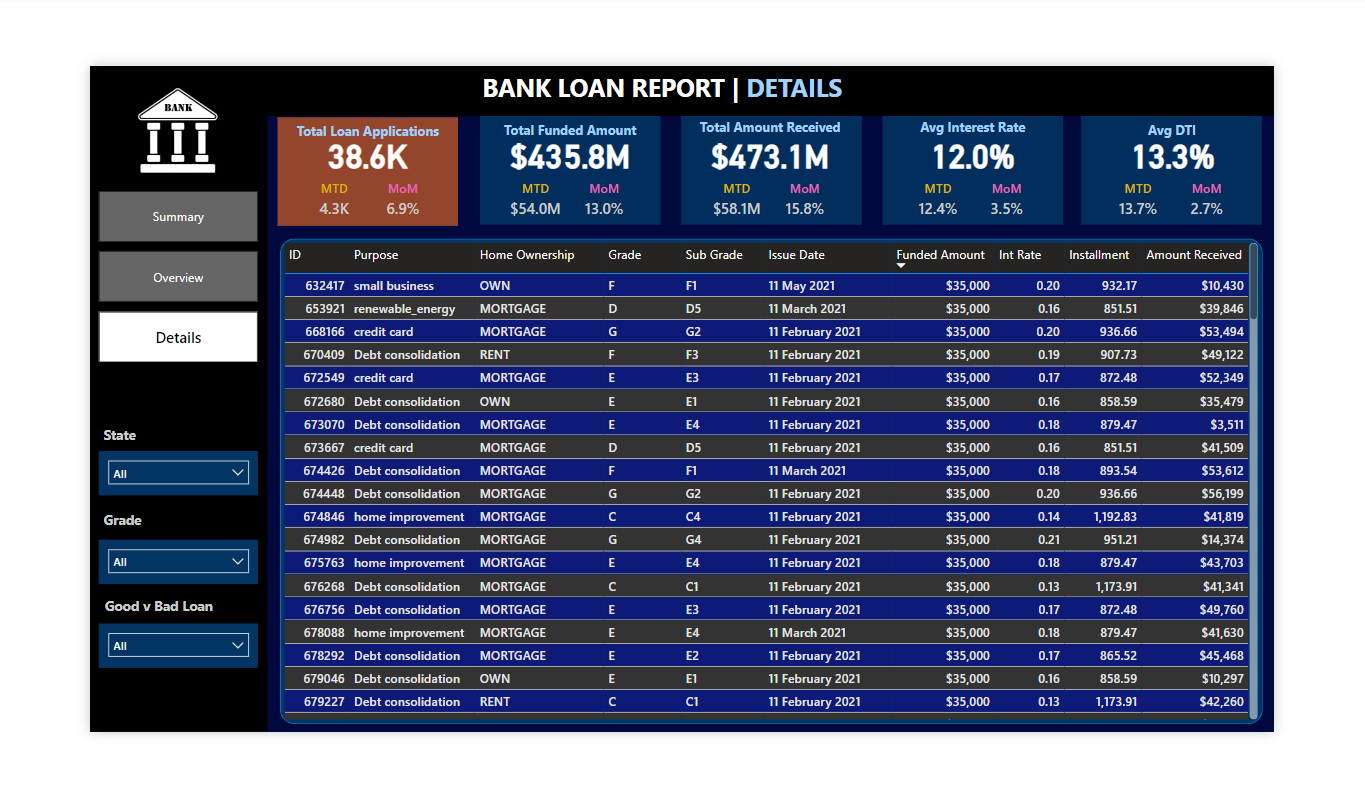

What the dashboard file says about the page in this screenshot:
{"tool":"powerbi","page":{"name":"Details","canvas":[1280,720],"ordinal":2},"visuals":[{"type":"shape","box":[0,0,1280.2,54.3],"z":0},{"type":"shape","box":[203.3,54.9,195.3,117.4],"z":1000},{"type":"shape","box":[0,54.7,192,665.3],"z":2000},{"type":"textbox","box":[418.5,0,486.4,48.1],"z":3000},{"type":"card","fields":{"Values":["bank_loan_data.Total Loan Applications"]},"box":[203.3,72.4,195.3,44.2],"z":4000},{"type":"textbox","box":[203.3,54.9,195.3,34.9],"z":5000},{"type":"card","title":"MTD","fields":{"Values":["bank_loan_data.MTD Loan Applications"]},"box":[227.2,123.5,74.1,49.4],"z":6000},{"type":"card","title":"MoM","fields":{"Values":["bank_loan_data.MoM Loan Applications"]},"box":[301.2,123.5,74.1,49.4],"z":7000},{"type":"shape","box":[421.1,54.2,195.3,117.4],"z":8000},{"type":"card","fields":{"Values":["bank_loan_data.Total Funded Amount"]},"box":[421,72.8,195.1,44.4],"z":9000},{"type":"textbox","box":[421,54.3,195.1,35.8],"z":10000},{"type":"card","title":"MTD","fields":{"Values":["bank_loan_data.MTD Funded Amount"]},"box":[444.4,123.5,74.1,48.1],"z":11000},{"type":"card","title":"MoM","fields":{"Values":["bank_loan_data.MoM Total Funded Amount"]},"box":[518.5,123.5,74.1,48.1],"z":12000},{"type":"shape","box":[638.8,54.4,195.3,117.4],"z":13000},{"type":"card","fields":{"Values":["bank_loan_data.Total Amount Received"]},"box":[638.3,72.8,195.1,44.4],"z":14000},{"type":"textbox","box":[638.3,51.9,195.1,34.6],"z":15000},{"type":"card","title":"MTD","fields":{"Values":["bank_loan_data.MTD Total Amount Received"]},"box":[661.7,123.5,74.1,49.4],"z":16000},{"type":"card","title":"MoM","fields":{"Values":["bank_loan_data.MoM Total Received Amount"]},"box":[735.8,123.5,75.3,49.4],"z":17000},{"type":"shape","box":[856.5,54.4,195.3,117.4],"z":18000},{"type":"card","fields":{"Values":["bank_loan_data.Average Interest Rate"]},"box":[856.8,72.8,195.1,44.4],"z":19000},{"type":"textbox","box":[856.8,51.9,195.1,34.6],"z":20000},{"type":"card","title":"MTD","fields":{"Values":["bank_loan_data.MTD Avg Int Rate"]},"box":[880.2,123.5,74.1,48.1],"z":21000},{"type":"card","title":"MoM","fields":{"Values":["bank_loan_data.MoM Avg Int Rate"]},"box":[954.3,123.5,74.1,48.1],"z":22000},{"type":"shape","box":[1071.7,53.7,195.3,117.4],"z":23000},{"type":"card","fields":{"Values":["bank_loan_data.Avg DTI"]},"box":[1072.8,72.8,195.1,44.4],"z":24000},{"type":"textbox","box":[1071.6,54.3,196.3,32.1],"z":25000},{"type":"card","title":"MTD","fields":{"Values":["bank_loan_data.MTD DTI"]},"box":[1096.3,123.5,74.1,48.1],"z":26000},{"type":"card","title":"MoM","fields":{"Values":["bank_loan_data.MoM Avg DTI"]},"box":[1170.4,123.5,74.1,48.1],"z":27000},{"type":"shape","box":[205,186.2,1062.5,525],"z":28000},{"type":"slicer","fields":{"Values":["bank_loan_data.address_state"]},"box":[9.7,415.7,172,48],"z":29000},{"type":"textbox","box":[9.7,383.7,96,32],"z":30000},{"type":"slicer","fields":{"Values":["bank_loan_data.grade"]},"box":[9.7,511.7,172,48],"z":31000},{"type":"textbox","box":[9.7,475.7,105.3,38.7],"z":32000},{"type":"slicer","fields":{"Values":["bank_loan_data.Good v Bad Loan"]},"box":[9.7,602.3,172,48],"z":33000},{"type":"textbox","box":[10.2,568.5,172.5,33.8],"z":34000},{"type":"tableEx","fields":{"Values":["bank_loan_data.id","bank_loan_data.purpose","bank_loan_data.home_ownership","bank_loan_data.grade","bank_loan_data.sub_grade","bank_loan_data.issue_date","bank_loan_data.Total Funded Amount","Sum(bank_loan_data.int_rate)","Sum(bank_loan_data.installment)","bank_loan_data.Total Amount Received"]},"box":[203.8,186.2,1063.8,525],"z":37000},{"type":"pageNavigator","box":[10,135,172.5,187.5],"z":37001},{"type":"image","box":[22.5,3.8,143.8,131.2],"z":37002}]}

Visuals, with their boxes on the page's 1280x720 design canvas (x1, y1, x2, y2). These are canvas units, not pixel positions in the 1365x800 screenshot, which may show the page scaled, cropped or inside an application window:
shape: [0,0,1280,54]
shape: [203,55,399,172]
shape: [0,55,192,720]
textbox: [418,0,905,48]
card - bank_loan_data.Total Loan Applications: [203,72,399,117]
textbox: [203,55,399,90]
"MTD" card: [227,124,301,173]
"MoM" card: [301,124,375,173]
shape: [421,54,616,172]
card - bank_loan_data.Total Funded Amount: [421,73,616,117]
textbox: [421,54,616,90]
"MTD" card: [444,124,518,172]
"MoM" card: [518,124,593,172]
shape: [639,54,834,172]
card - bank_loan_data.Total Amount Received: [638,73,833,117]
textbox: [638,52,833,86]
"MTD" card: [662,124,736,173]
"MoM" card: [736,124,811,173]
shape: [856,54,1052,172]
card - bank_loan_data.Average Interest Rate: [857,73,1052,117]
textbox: [857,52,1052,86]
"MTD" card: [880,124,954,172]
"MoM" card: [954,124,1028,172]
shape: [1072,54,1267,171]
card - bank_loan_data.Avg DTI: [1073,73,1268,117]
textbox: [1072,54,1268,86]
"MTD" card: [1096,124,1170,172]
"MoM" card: [1170,124,1244,172]
shape: [205,186,1268,711]
slicer - bank_loan_data.address_state: [10,416,182,464]
textbox: [10,384,106,416]
slicer - bank_loan_data.grade: [10,512,182,560]
textbox: [10,476,115,514]
slicer - bank_loan_data.Good v Bad Loan: [10,602,182,650]
textbox: [10,568,183,602]
tableEx - bank_loan_data.id x bank_loan_data.purpose: [204,186,1268,711]
pageNavigator: [10,135,182,322]
image: [22,4,166,135]
